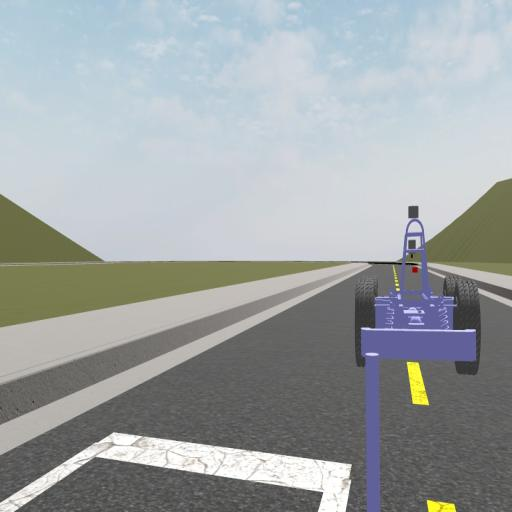ERP-42: (355, 207, 481, 375)
